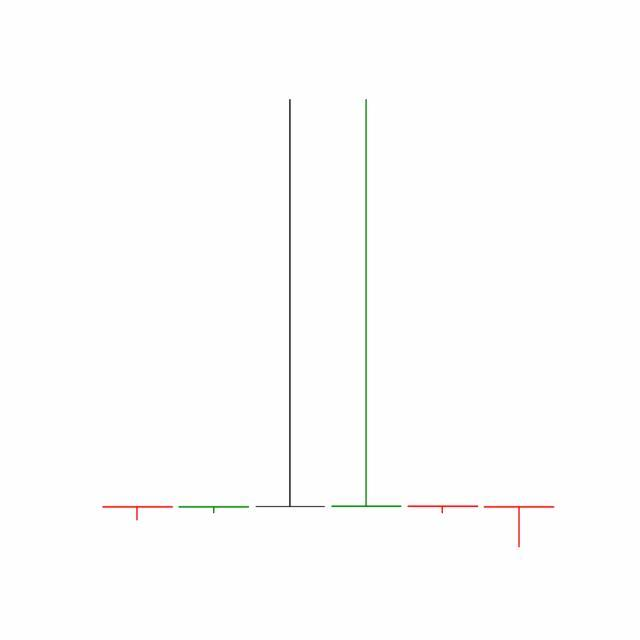Hammer: (404, 506, 482, 515)
